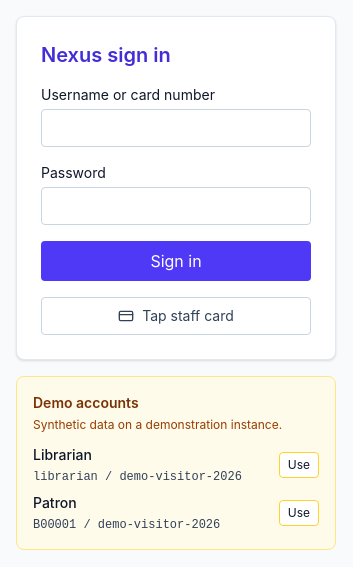
Test case: lists demo accounts and fills the form with the chosen one
Expected: the heading "Demo accounts" is shown, 33,394 -> 139,411
Step 1. Click the button with aria-label "Use the Patron account" → (299, 513), box 279,500 -> 319,526
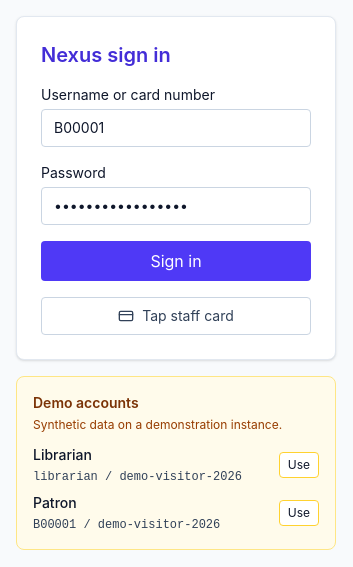
Now the field labelled "Username or card number" holds "B00001", box 41,109 -> 311,147
Now the password field labelled "Password" holds "demo-visitor-2026", box 41,187 -> 311,225
